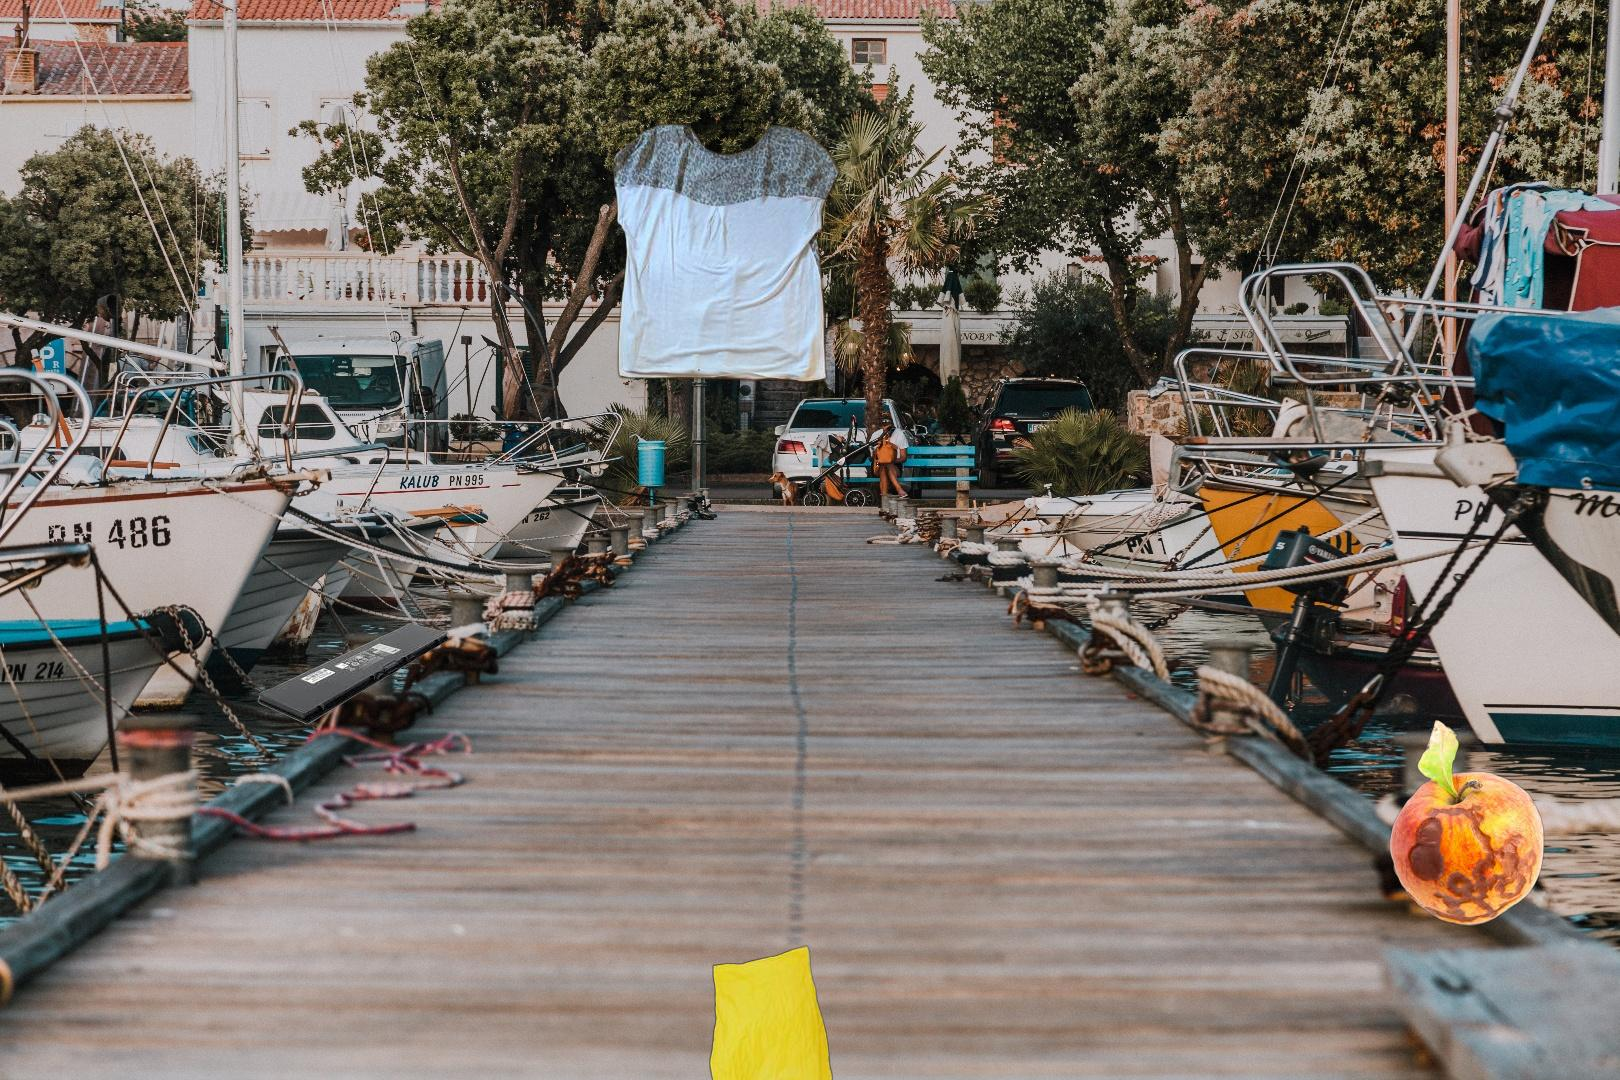battery: (256, 620, 454, 727)
biological: (1387, 717, 1546, 929)
clothes: (609, 119, 847, 388)
plastic-bag: (706, 943, 837, 1080)
